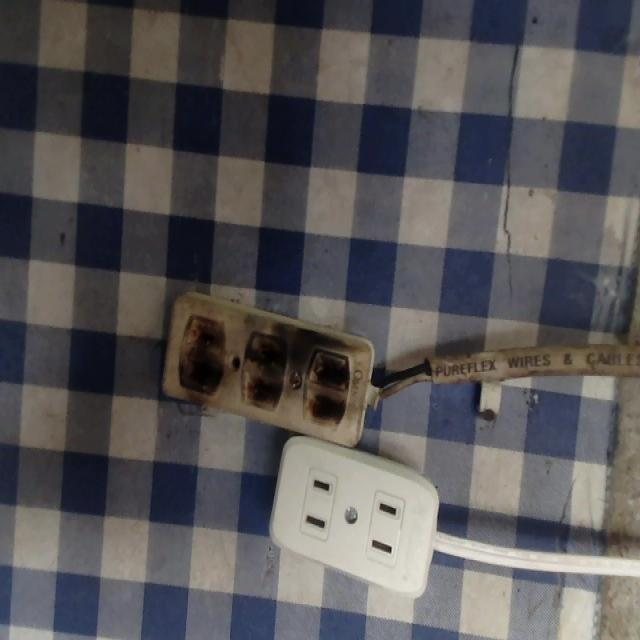-: (176, 309, 227, 403), (300, 338, 351, 431), (240, 328, 289, 416)
